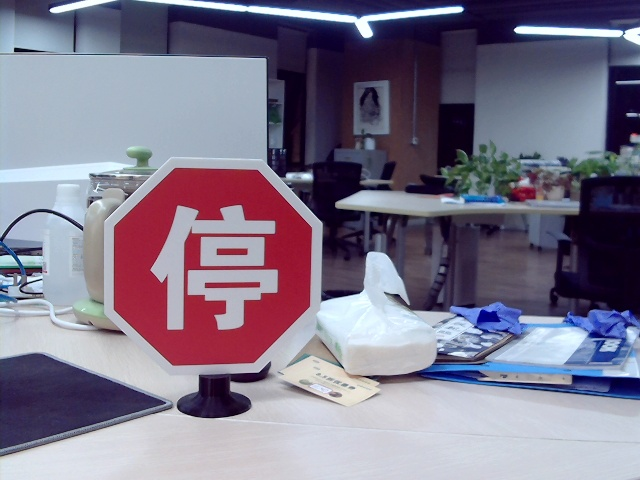stop: (151, 203, 278, 331)
